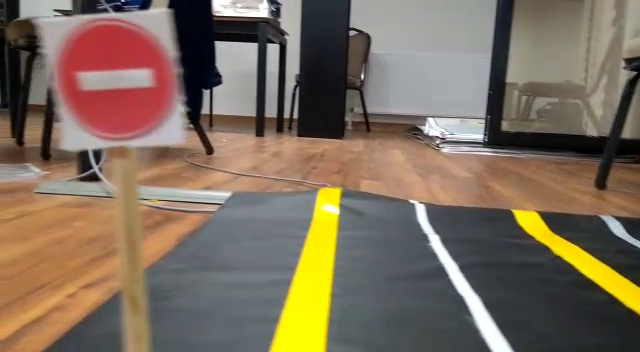girisi_olmayan_yol: (49, 14, 185, 144)
